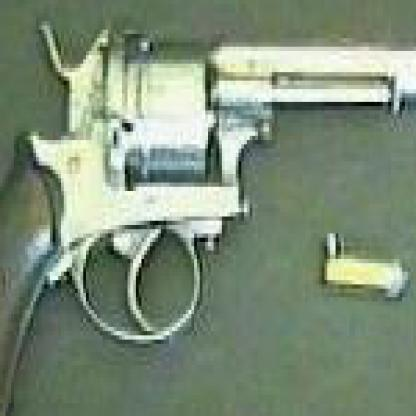gun: (0, 12, 413, 412)
